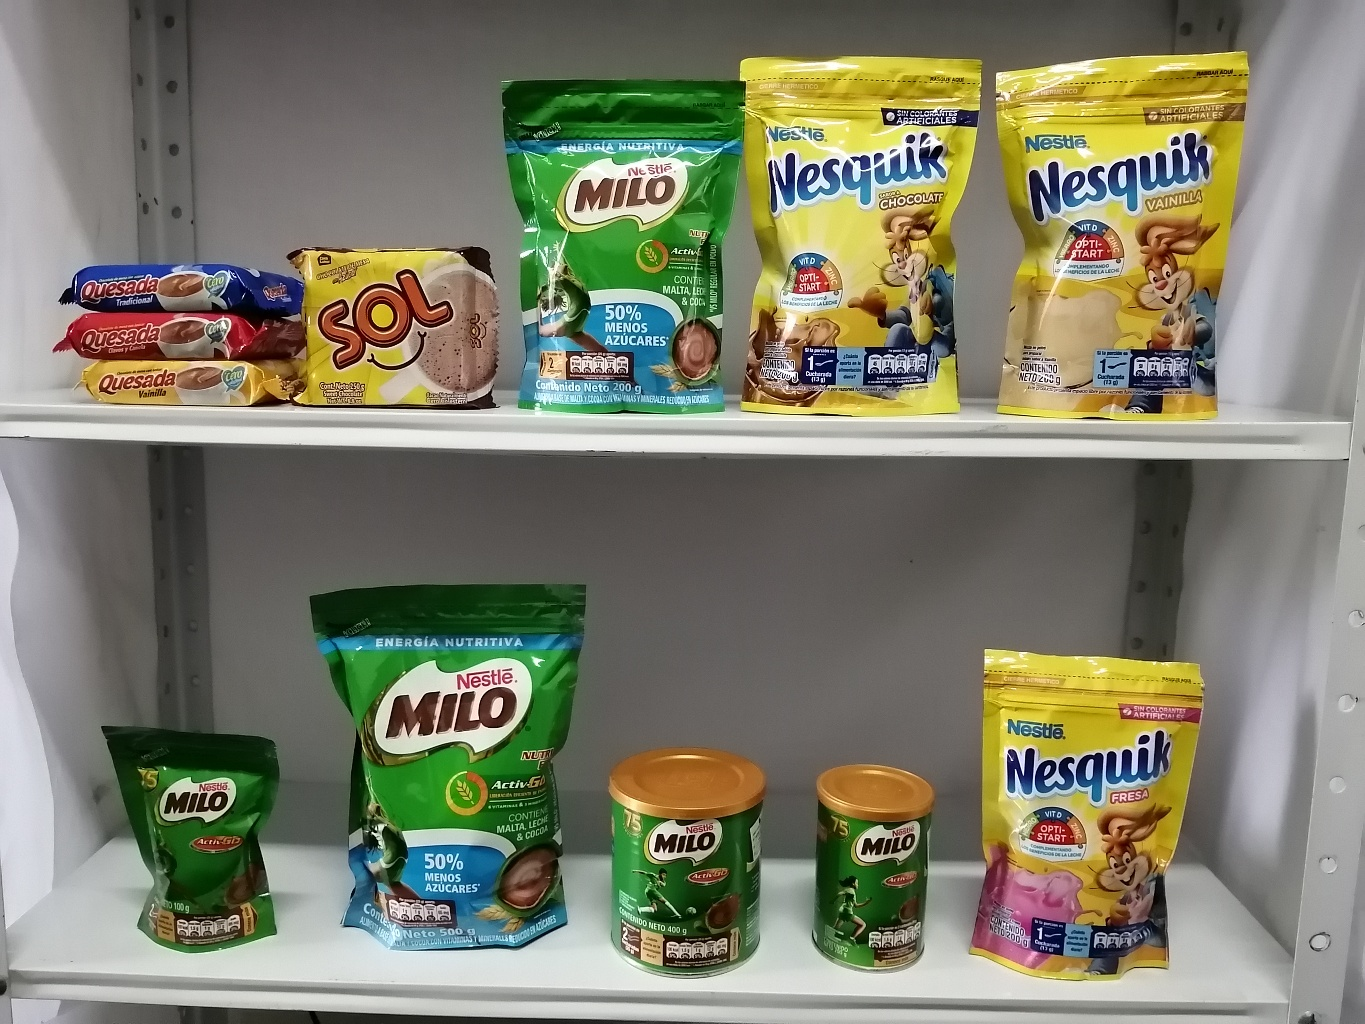COL0170203DYP10000: (84, 699, 287, 962)
COL0170203LAT20000: (799, 742, 947, 976)
COL0170203LAT40000: (599, 728, 774, 980)
COL0170205DYP20000: (487, 60, 731, 418)
COL0170205DYP50000: (297, 561, 597, 959)
COL0170303DYP20000: (724, 38, 989, 426)
COL0170305DYP20000: (967, 635, 1212, 997)
COL0170306DYP20000: (989, 44, 1256, 429)
